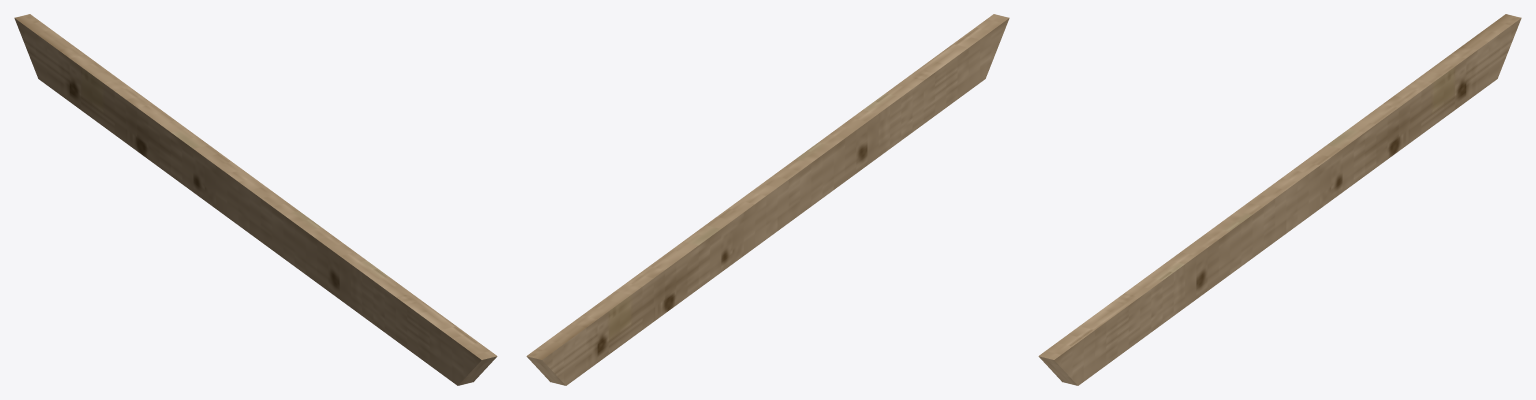
The model's file is Joglo_part_123.fbx.
3 renders of one model, left to right at view 1: azimuth 30°, elevation 25°; view 2: azimuth 150°, elevation 25°; view 3: azimuth 330°, elevation 25°, orthographic.
Visible parts, largest first — view 1: Mesh208_Wood___Pine_Grained_Horizontal_0.001; view 2: Mesh208_Wood___Pine_Grained_Horizontal_0.001; view 3: Mesh208_Wood___Pine_Grained_Horizontal_0.001.
Part boxes in pixels (<box>): Mesh208_Wood___Pine_Grained_Horizontal_0.001: <box>14,14,497,385</box>; Mesh208_Wood___Pine_Grained_Horizontal_0.001: <box>526,14,1009,385</box>; Mesh208_Wood___Pine_Grained_Horizontal_0.001: <box>1038,14,1521,385</box>.
Bounding box in the file's own units: 0.7507 × 1.97 × 38.35.
